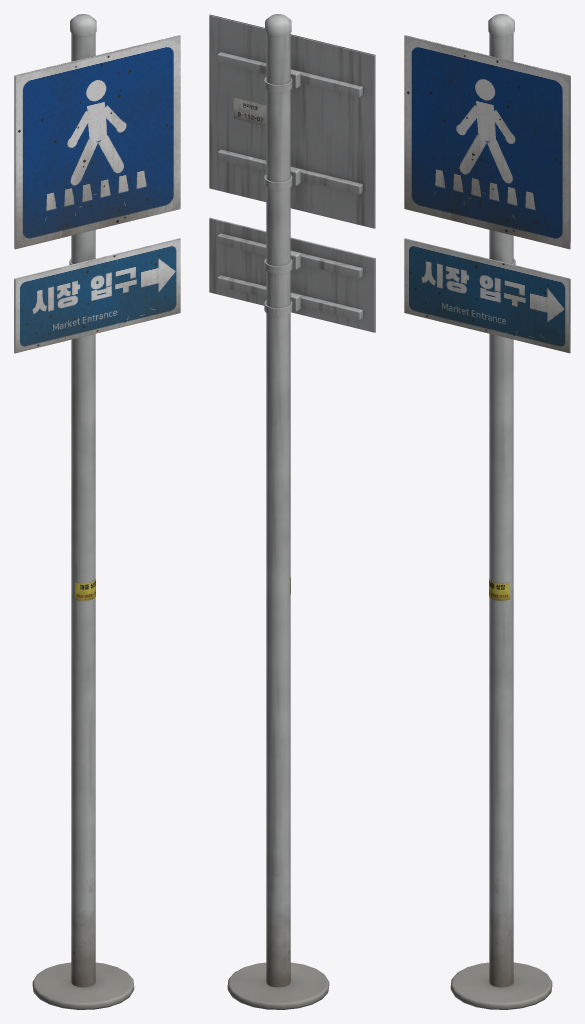
File: StreetSignPole.fbx
3 renders of one model, left to right at view 1: azimuth 30°, elevation 25°; view 2: azimuth 150°, elevation 25°; view 3: azimuth 330°, elevation 25°, orthographic.
Parts seen in each view (by area): view 1: StreetSignPole_Body; view 2: StreetSignPole_Body; view 3: StreetSignPole_Body.
Boxes of the visible parts, x1=… form: StreetSignPole_Body: x1=14, y1=14, x2=180, y2=1009; StreetSignPole_Body: x1=209, y1=14, x2=375, y2=1009; StreetSignPole_Body: x1=404, y1=14, x2=570, y2=1009.
Bounding box in the file's own units: 0.6 × 3.36 × 0.32.
